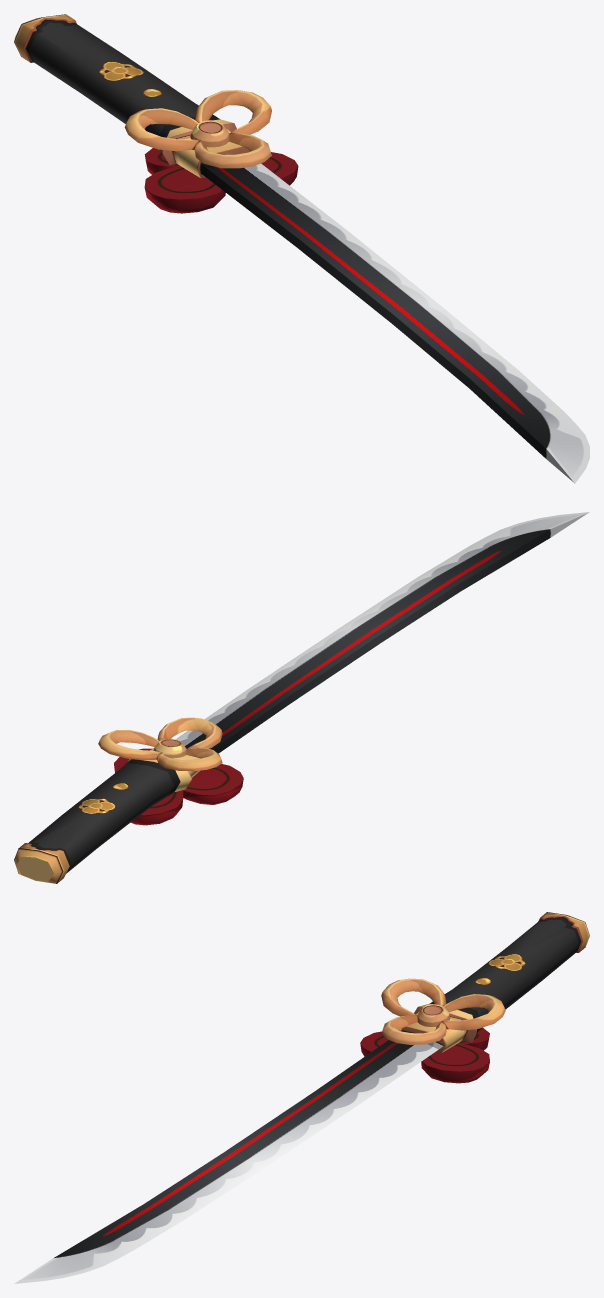
The model's file is Sword.glb.
3 views of the same model, one above another, from view 1: azimuth 30°, elevation 25°; view 2: azimuth 150°, elevation 25°; view 3: azimuth 330°, elevation 25° (orthographic). The views are drawn at different scales.
Parts seen in each view (by area): view 1: SkillObj_Chiori_Sword_LOD0; view 2: SkillObj_Chiori_Sword_LOD0; view 3: SkillObj_Chiori_Sword_LOD0.
Boxes of the visible parts, x1=… form: SkillObj_Chiori_Sword_LOD0: x1=14, y1=14, x2=589, y2=483; SkillObj_Chiori_Sword_LOD0: x1=14, y1=512, x2=589, y2=883; SkillObj_Chiori_Sword_LOD0: x1=14, y1=912, x2=589, y2=1283.
Size of the model in its own units: 0.0797 by 0.0403 by 0.5825.
1 material, 1 textured.
